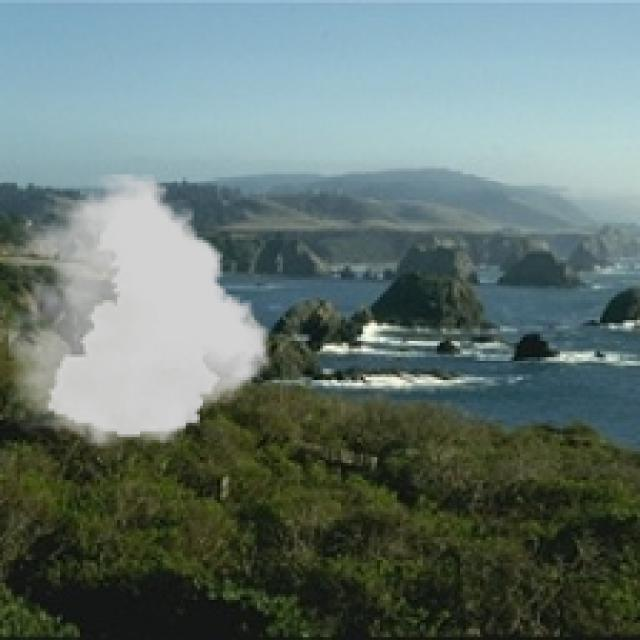smoke: (8, 174, 268, 449)
